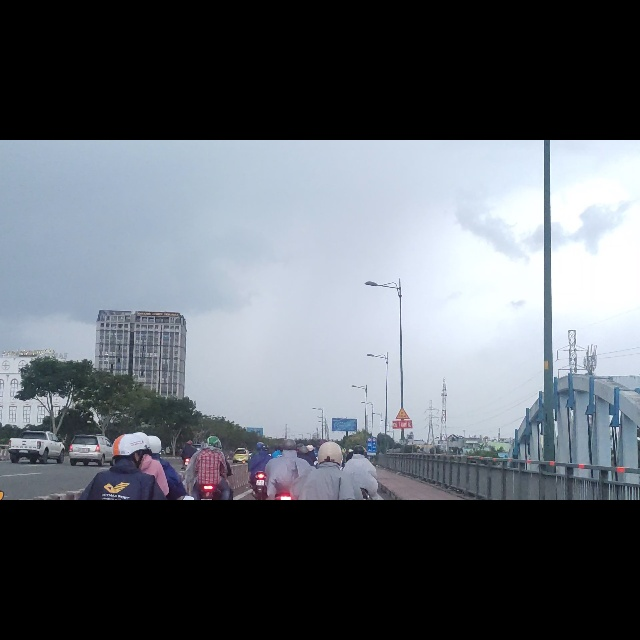bien_cam: (395, 474, 411, 498)
